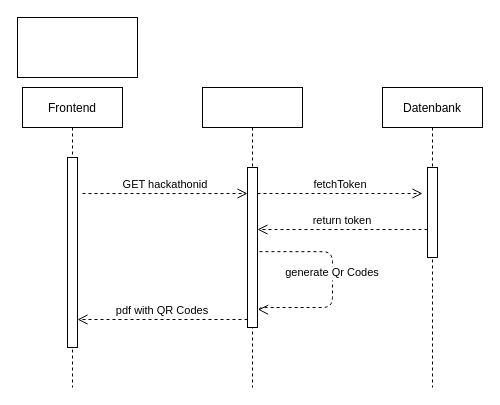
This 500x405 diagram has some shape labels left out. The box of each missing label's shape, as (x1, y1, x2, y2) in pixels:
Backend: (202, 86, 302, 388)
QR-Codes Generation: (16, 16, 138, 78)
